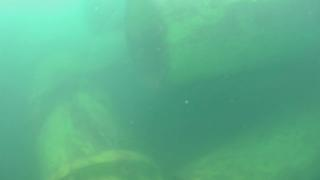pipe: (125, 1, 320, 93), (28, 54, 162, 180), (170, 110, 320, 178)
